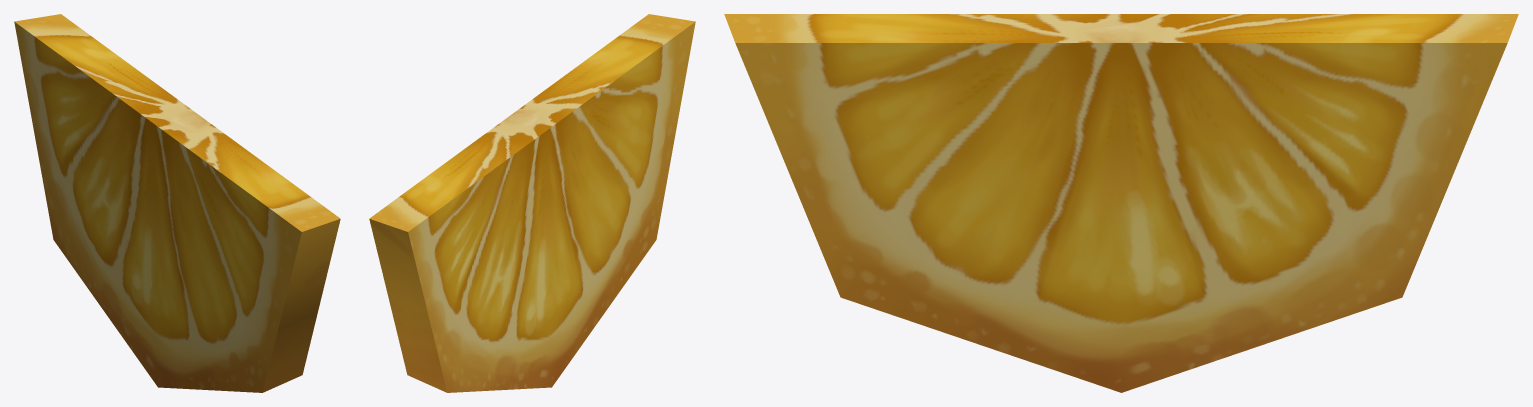
The model's file is lemonslicehalf.fbx.
3 renders of one model, left to right at view 1: azimuth 30°, elevation 25°; view 2: azimuth 150°, elevation 25°; view 3: azimuth 270°, elevation 25°, orthographic. The views are drawn at different scales.
Parts seen in each view (by area): view 1: lemonslicehalf; view 2: lemonslicehalf; view 3: lemonslicehalf.
Part boxes in pixels (left/top/right/bottom): lemonslicehalf: left=14, top=14, right=340, bottom=392; lemonslicehalf: left=369, top=14, right=695, bottom=392; lemonslicehalf: left=724, top=14, right=1518, bottom=392.
Size of the model in its own units: 1.15 by 6.69 by 13.37.
